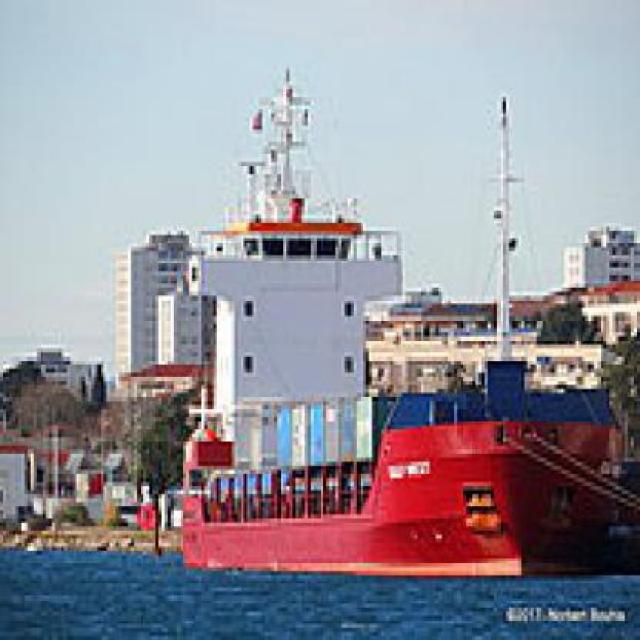container: (147, 46, 638, 601)
